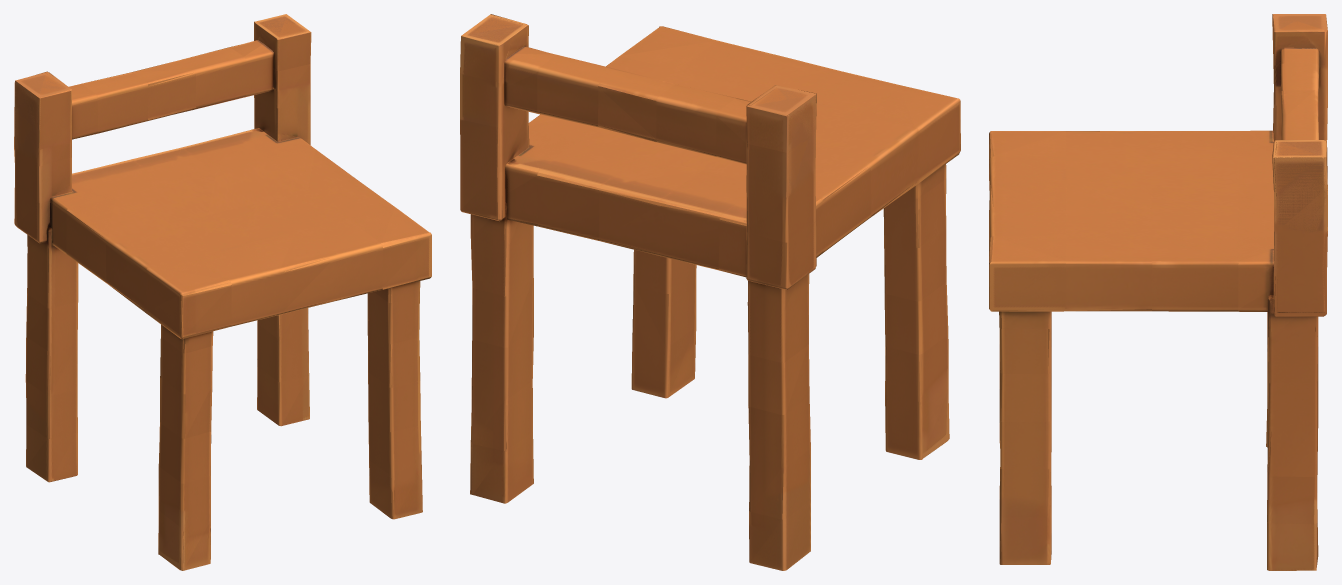
The model's file is lookoutPost.glb.
The picture shows the model from 3 angles, left to right: view 1: azimuth 30°, elevation 25°; view 2: azimuth 150°, elevation 25°; view 3: azimuth 270°, elevation 25°; orthographic projection. The views are drawn at different scales.
Size of the model in its own units: 2.7 by 3.65 by 2.7.
Materials: 1 (1 with a texture image).
